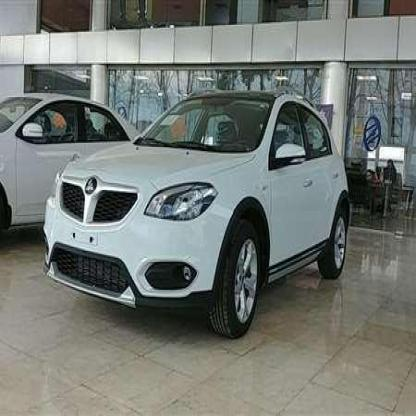Car: (43, 90, 352, 344), (0, 90, 148, 255)
